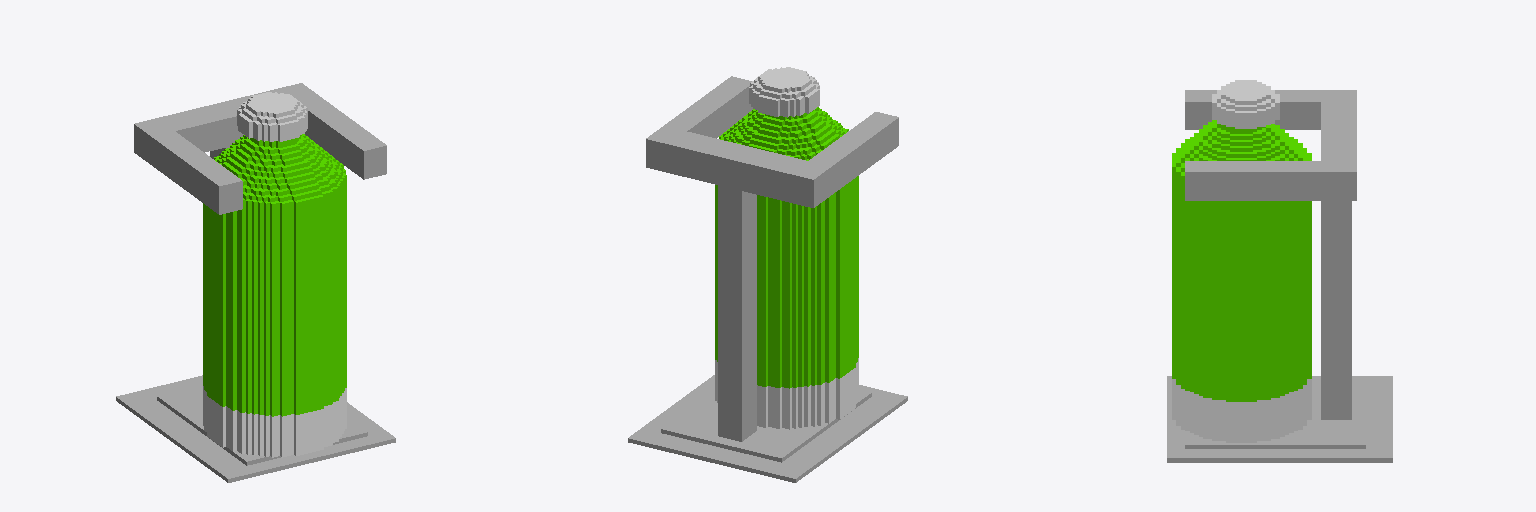
The picture shows the model from 3 angles: view 1: azimuth 30°, elevation 25°; view 2: azimuth 150°, elevation 25°; view 3: azimuth 270°, elevation 25°; orthographic projection.
Bounding box in the file's own units: 43 × 81 × 50.
Materials: 1 (1 with a texture image).